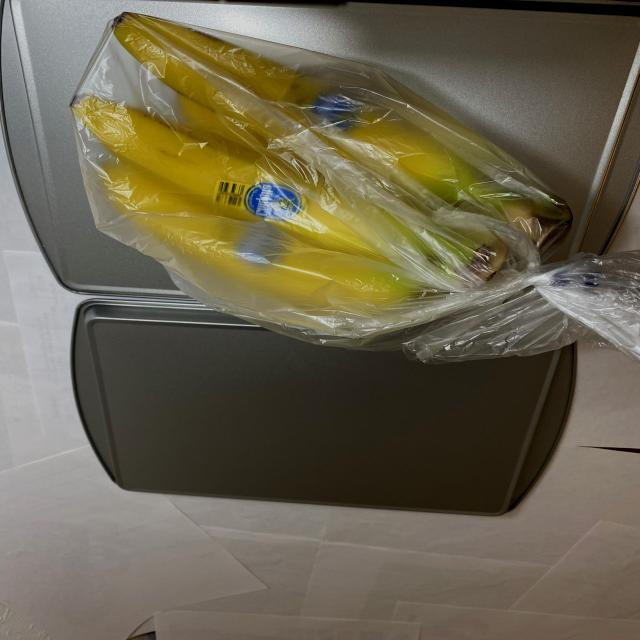banana: (69, 8, 575, 346)
